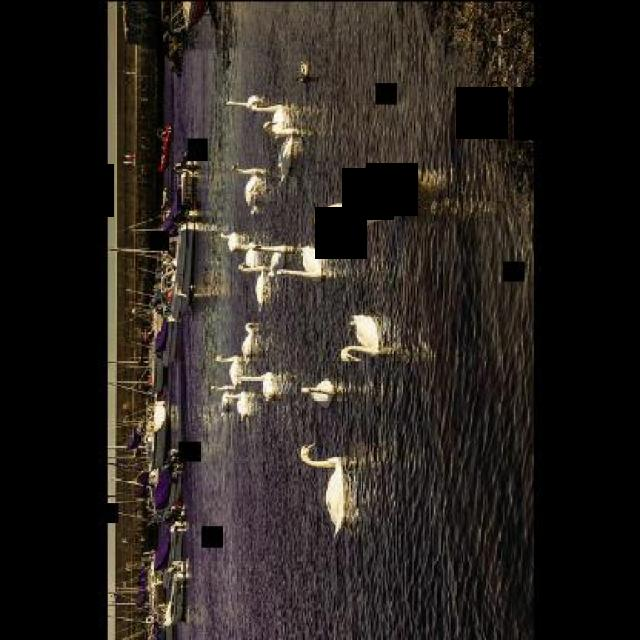unauthorized: (312, 168, 405, 229)
